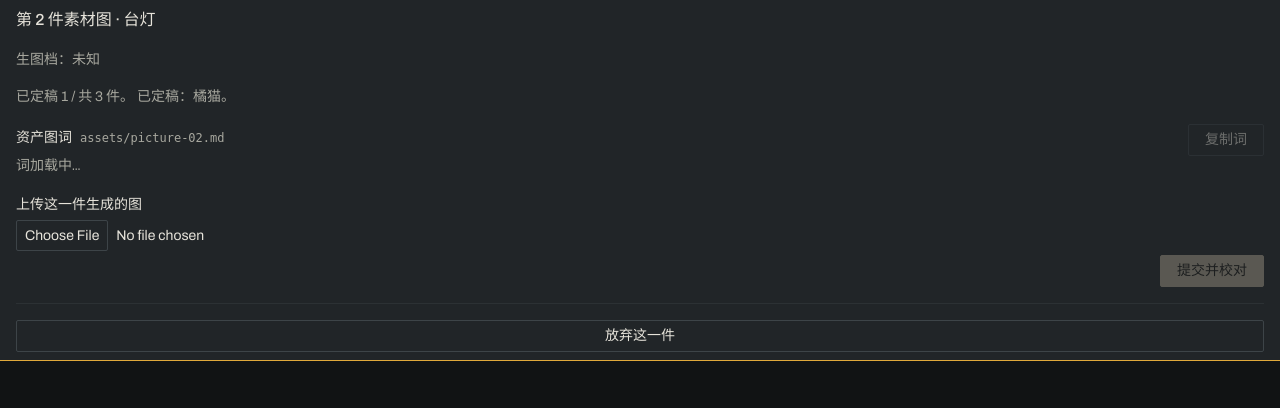
it: AssetImageCard 放弃这一件 › 快照读不到时，回执退回本地镜像的那句
This screenshot has width=1280, height=408.
Click the button "放弃这一件": (640, 336) [16, 320, 1264, 352]
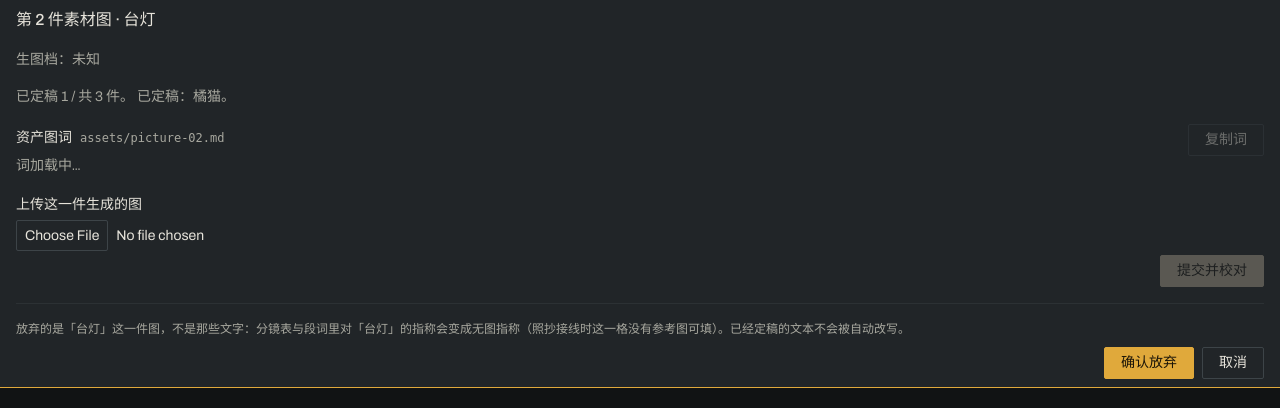
Click the button "确认放弃": (1149, 363) [1104, 347, 1194, 379]
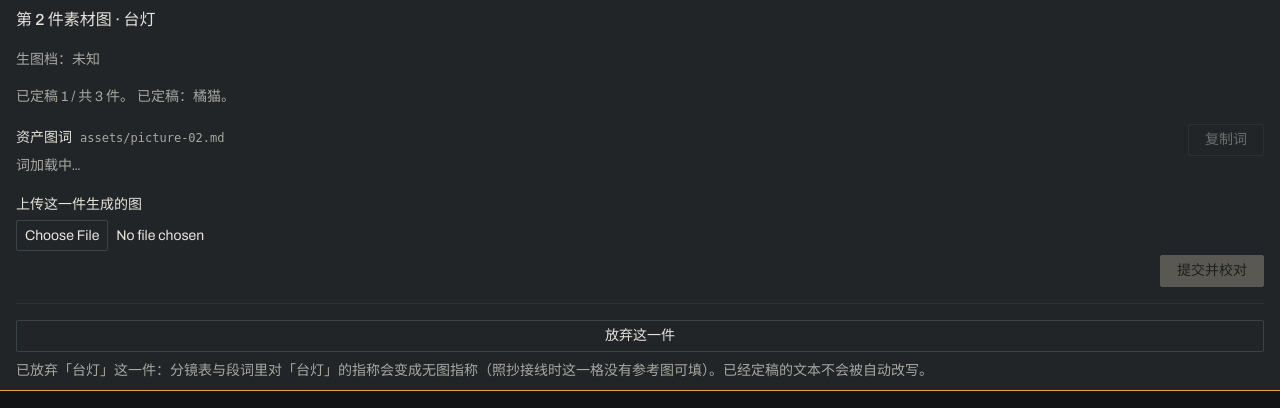
expect the text "已放弃「台灯」这一件" is shown: met, box [16, 363, 933, 378]
